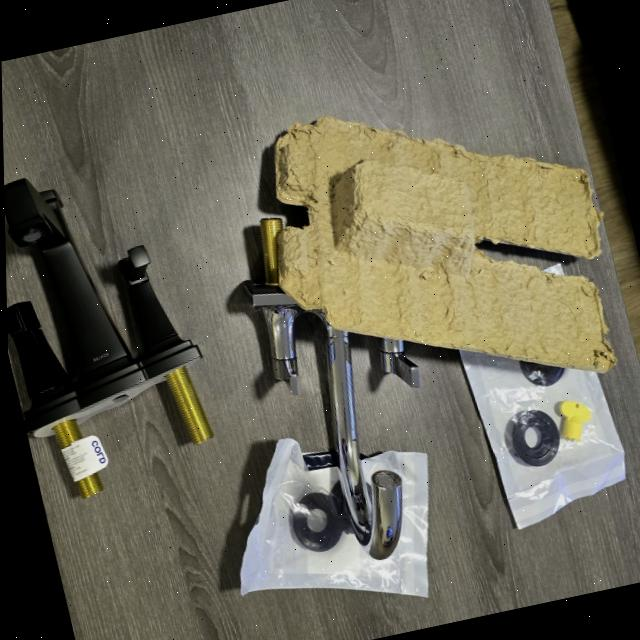10o: (314, 311, 402, 559), (245, 217, 303, 394), (380, 337, 420, 387)
12o: (459, 350, 625, 528)
13o: (240, 438, 428, 597)
9: (4, 178, 213, 498)
